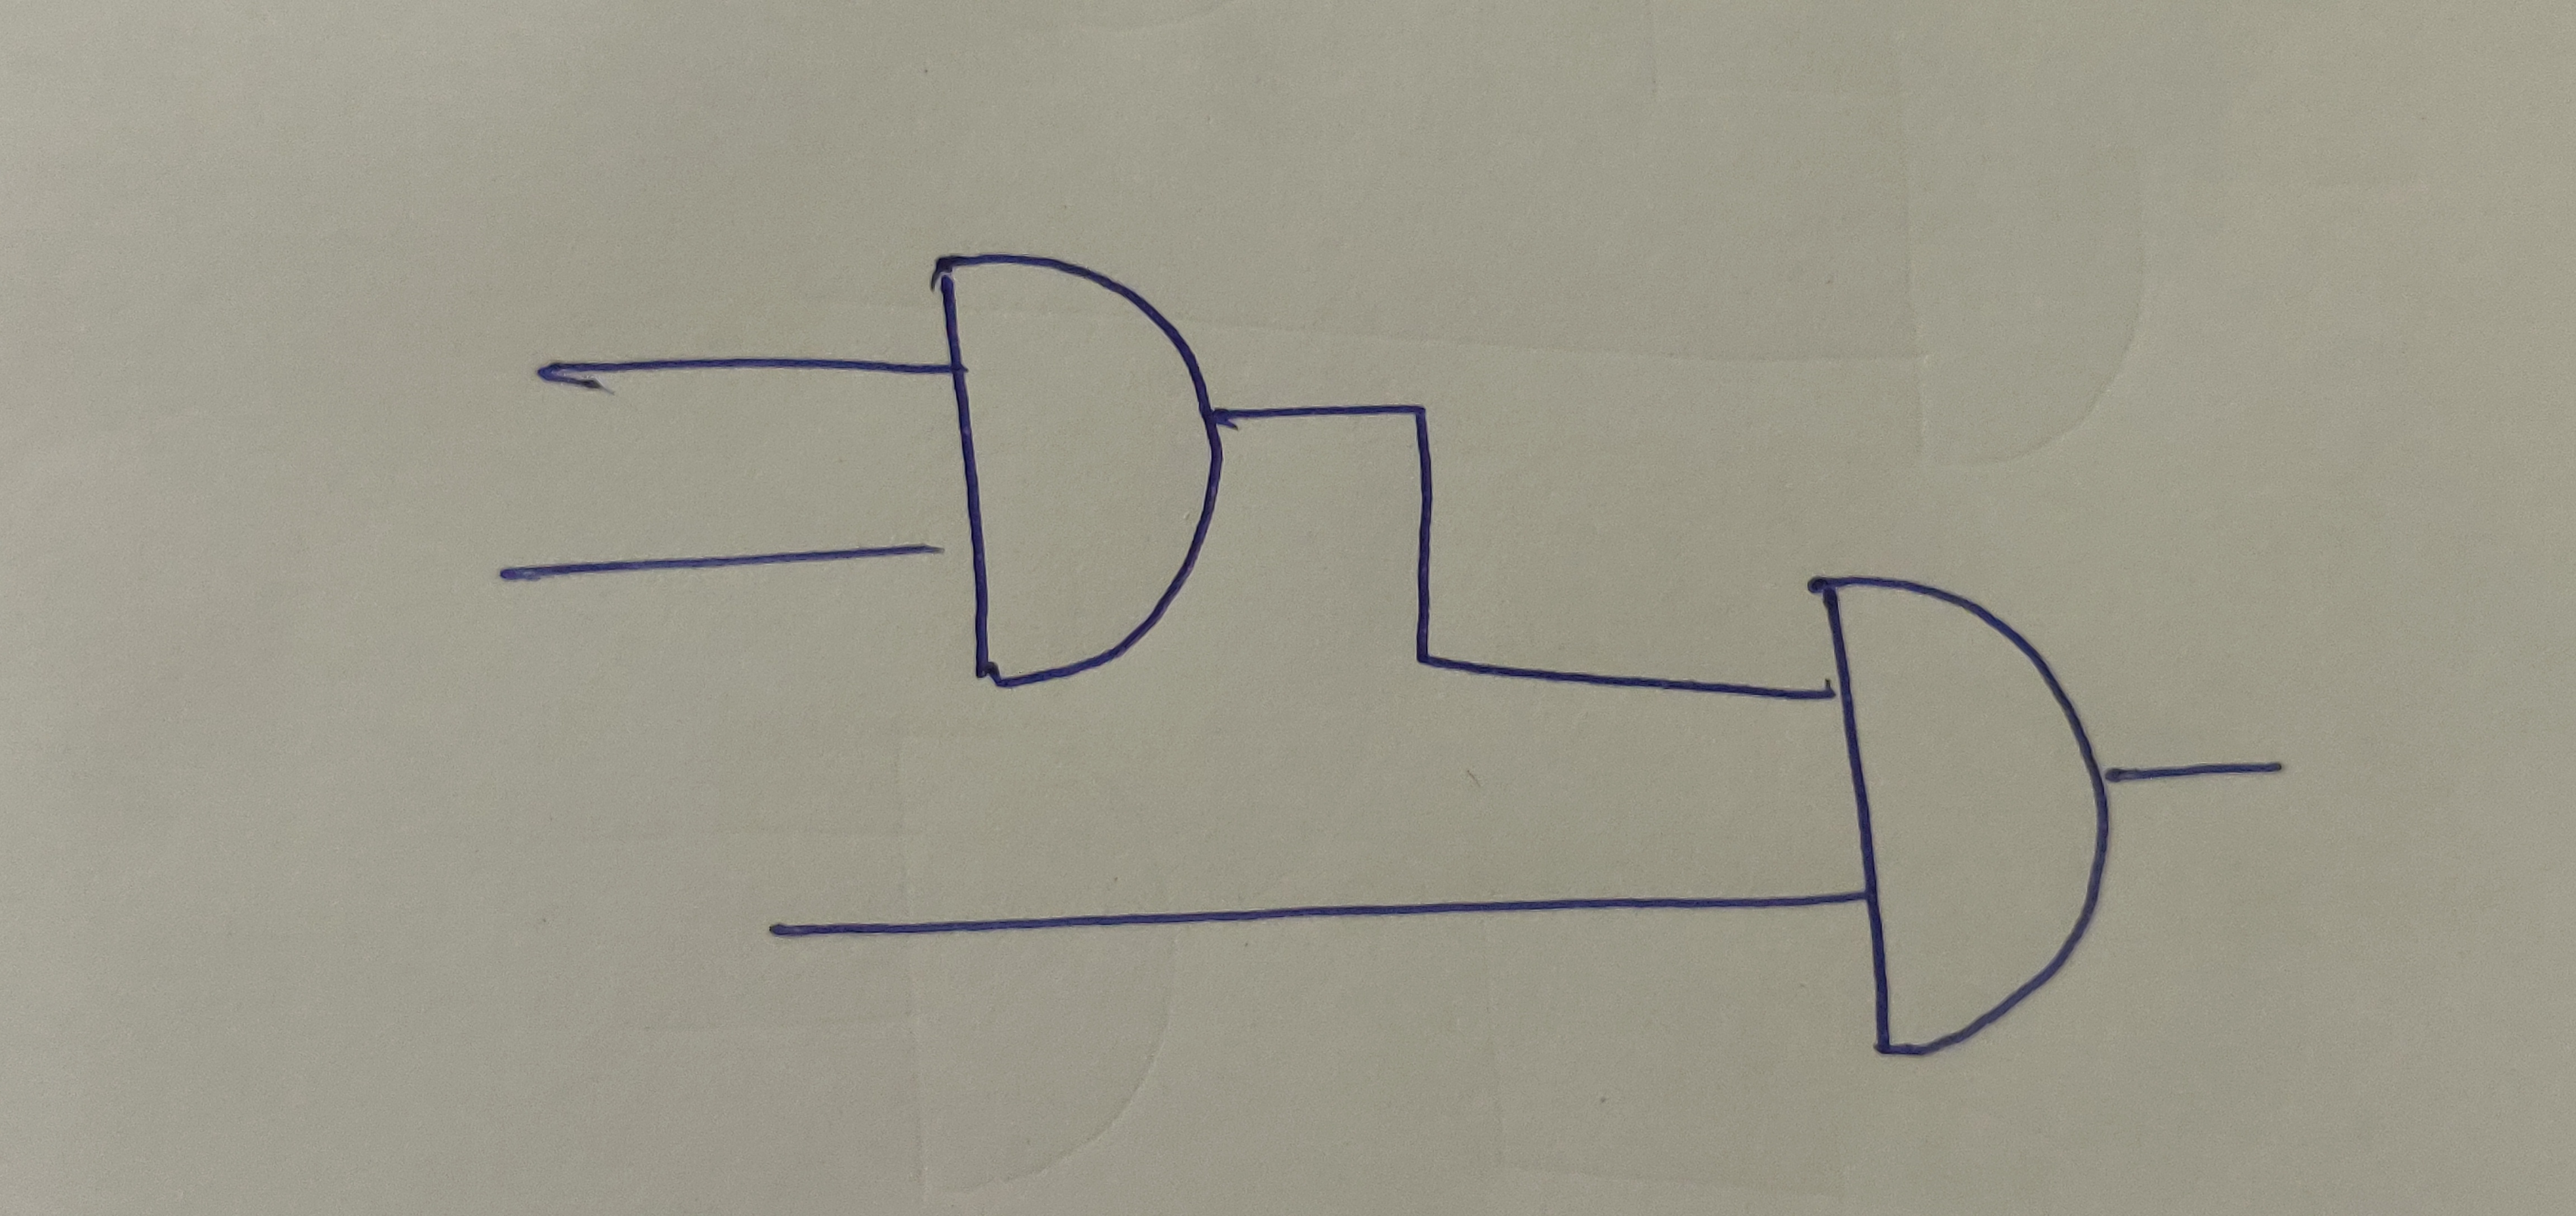and: (1817, 572, 2113, 1060), (935, 250, 1222, 687)
